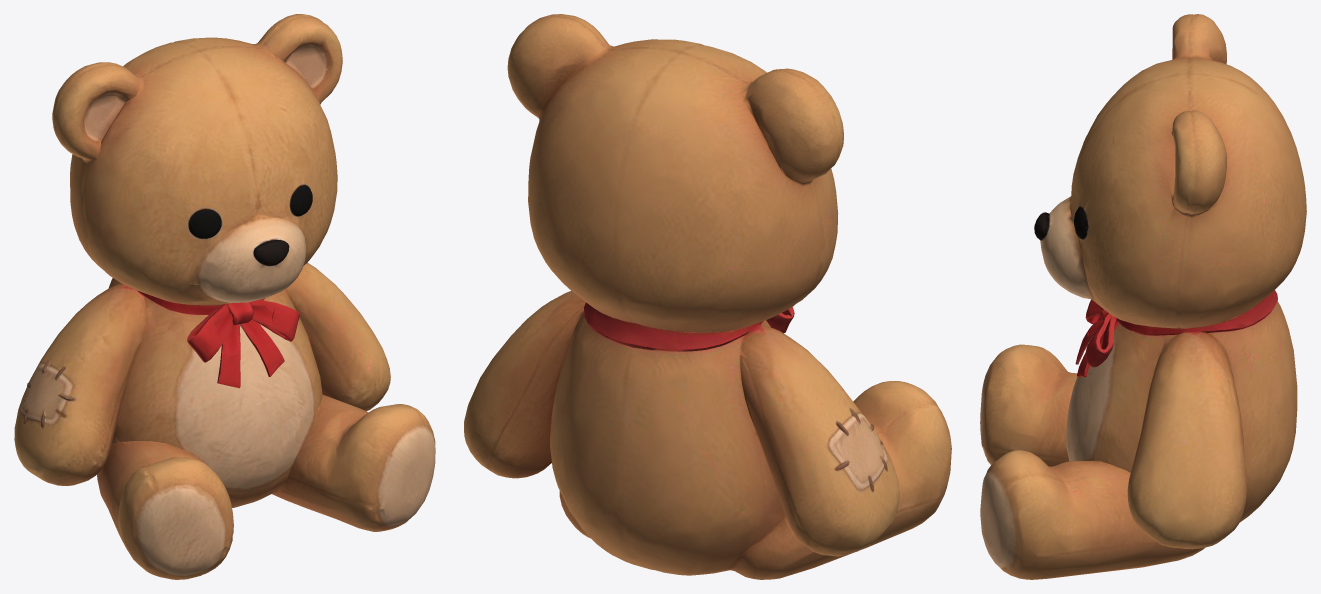
File: teddy.glb
3 views of the same model, side by side, from view 1: azimuth 30°, elevation 25°; view 2: azimuth 150°, elevation 25°; view 3: azimuth 270°, elevation 25° (orthographic). The views are drawn at different scales.
Size of the model in its own units: 1.58 by 1.9 by 1.24.
1 material, 1 textured.
